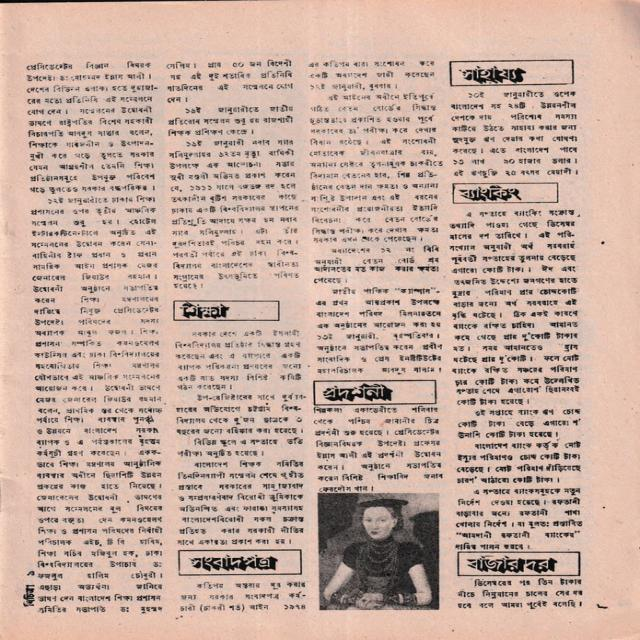image: (316, 491, 443, 612)
page number: (27, 570, 36, 577)
paragraph: (29, 195, 164, 614), (446, 206, 583, 408), (307, 90, 448, 246), (166, 137, 302, 293), (26, 61, 157, 195), (313, 285, 444, 376), (174, 458, 307, 547), (451, 91, 580, 181), (313, 405, 444, 492), (453, 486, 589, 551), (173, 327, 304, 391), (162, 57, 296, 105), (170, 391, 307, 436), (455, 439, 585, 486), (310, 243, 443, 286), (179, 581, 310, 618), (453, 405, 586, 441), (166, 103, 298, 139), (306, 57, 437, 92), (457, 578, 583, 610), (175, 436, 307, 460)
text: (23, 585, 35, 606)
title: (467, 555, 558, 574), (190, 556, 278, 573), (457, 65, 527, 85), (323, 384, 393, 402), (454, 184, 520, 202), (174, 301, 230, 321)
